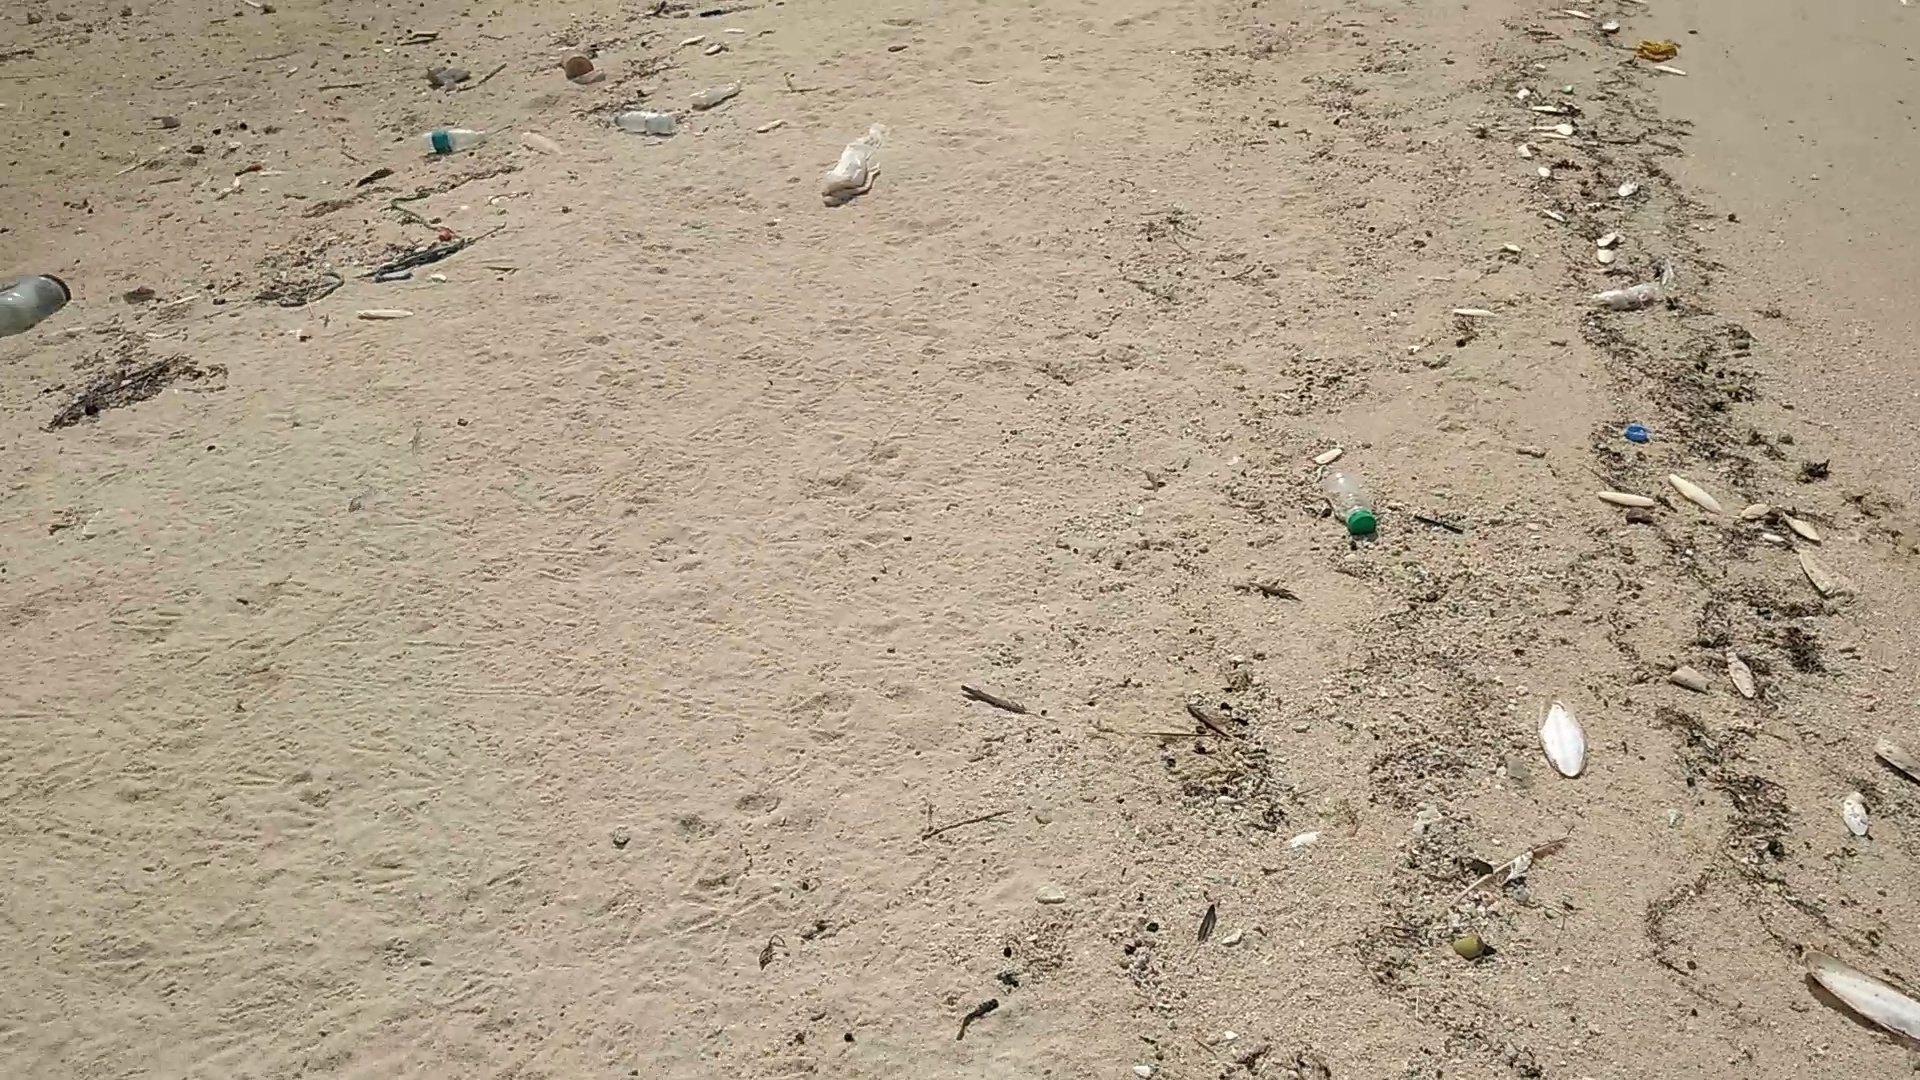glass: (1, 274, 69, 336)
metal: (556, 51, 593, 82)
plastic: (818, 121, 891, 206), (1323, 467, 1378, 538), (415, 127, 492, 160), (1592, 280, 1663, 314), (684, 80, 742, 108), (615, 112, 680, 135)
